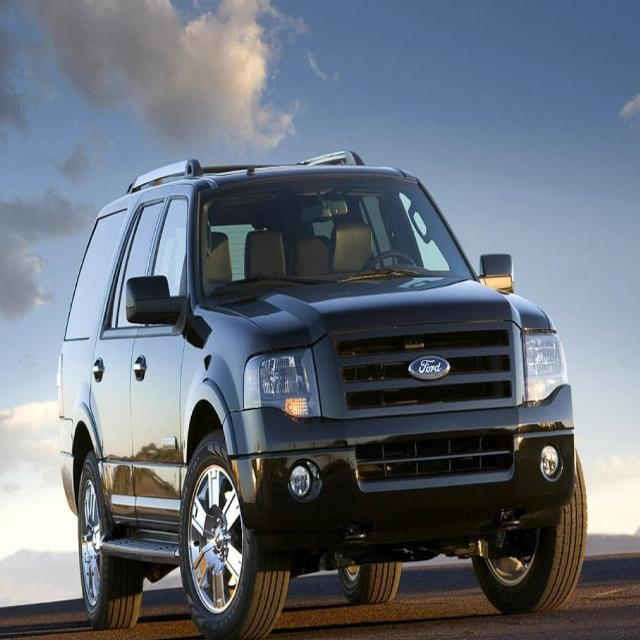back_right_side_light: (56, 352, 68, 418)
front_bumper: (220, 420, 576, 535)
front_glass: (197, 172, 480, 300)
front_left_side_light: (520, 328, 570, 406)
front_left_side_mirror: (475, 252, 517, 294)
front_right_side_door: (128, 181, 198, 525)
front_right_side_light: (242, 342, 324, 424)
front_right_side_mirror: (125, 274, 185, 329)
wheel: (178, 429, 290, 638), (471, 446, 588, 615), (77, 449, 144, 630), (334, 560, 404, 608)
